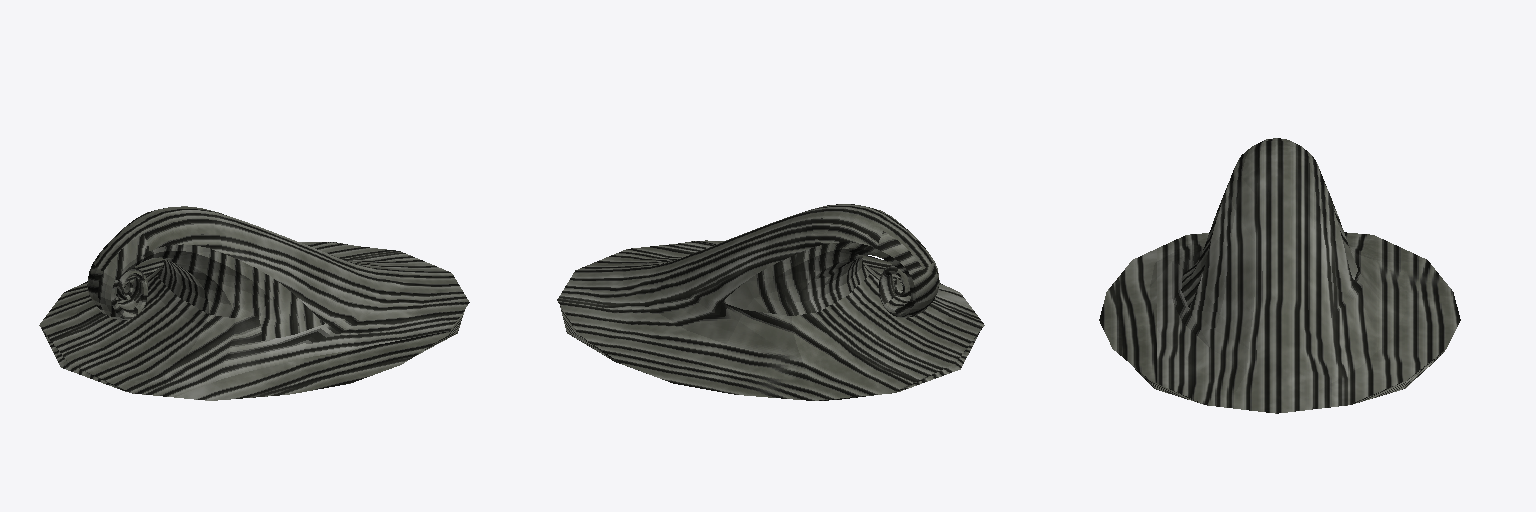
3 views of the same model, side by side, from view 1: azimuth 30°, elevation 25°; view 2: azimuth 150°, elevation 25°; view 3: azimuth 270°, elevation 25° (orthographic).
Visible parts, largest first — view 1: Plane_Plane.003; view 2: Plane_Plane.003; view 3: Plane_Plane.003.
Part boxes in pixels (x1,y1,x2,y2): Plane_Plane.003: (39,206,469,400); Plane_Plane.003: (557,204,984,400); Plane_Plane.003: (1099,138,1460,413).
Size of the model in its own units: 5.28 by 1.72 by 4.26.
1 materials, 1 textured.